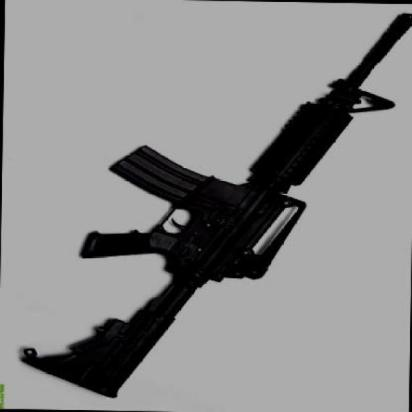Gun: (20, 3, 412, 401)
